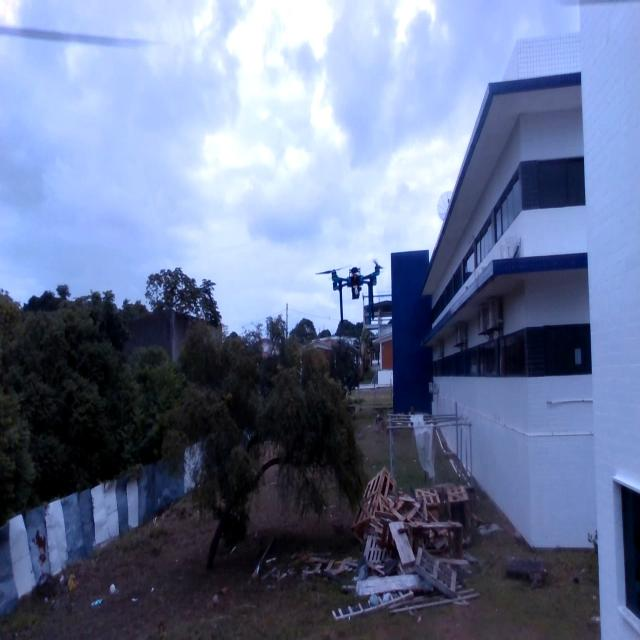-uav-: (311, 252, 388, 333)
